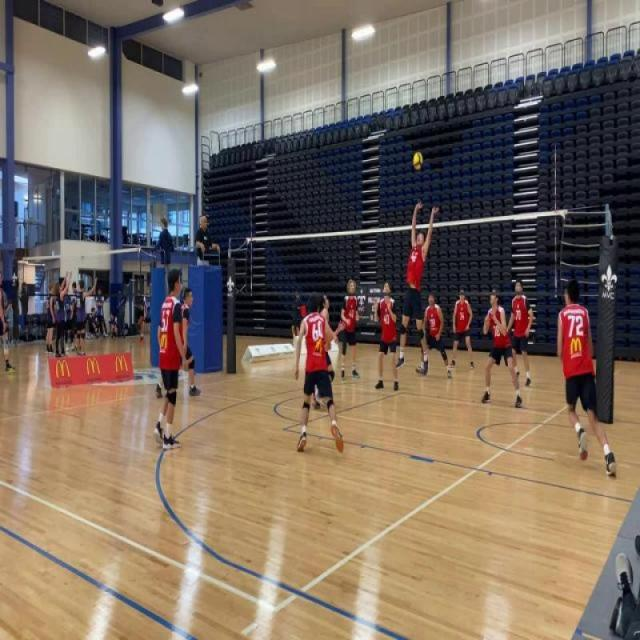volleyball: (411, 148, 426, 175)
